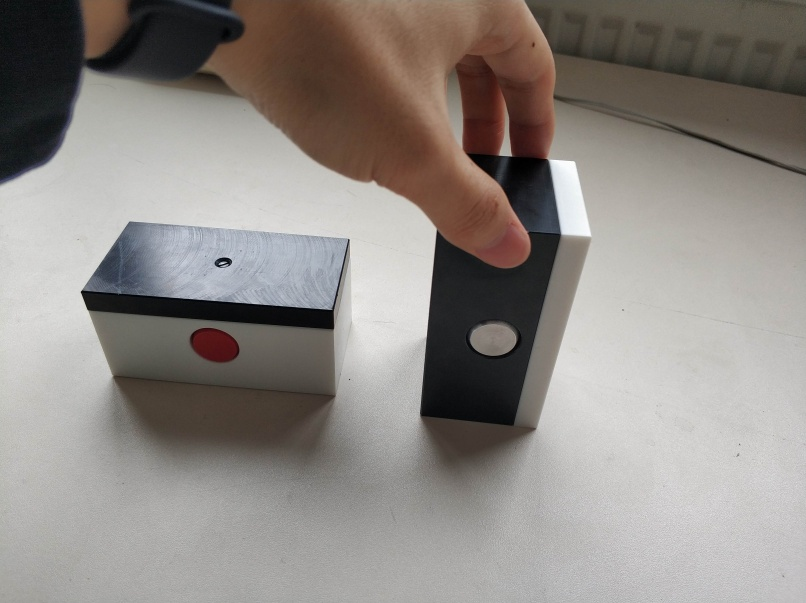black+white+red: (79, 221, 355, 398)
white+black+silver: (418, 154, 593, 431)
